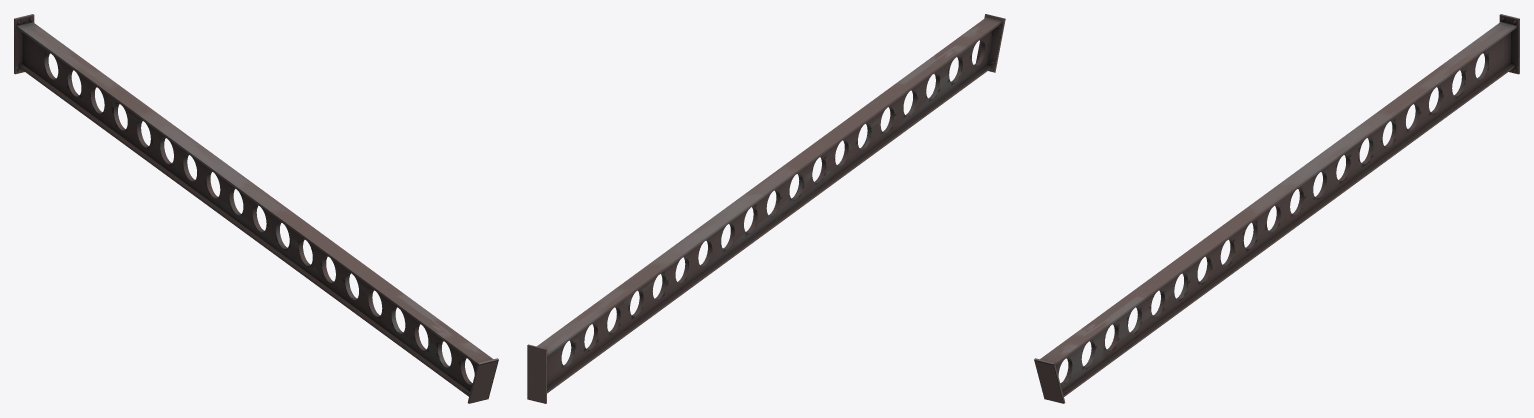
3 renders of one model, left to right at view 1: azimuth 30°, elevation 25°; view 2: azimuth 150°, elevation 25°; view 3: azimuth 330°, elevation 25°, orthographic.
Parts seen in each view (by area): view 1: body0_model0_lod0_mesh0; view 2: body0_model0_lod0_mesh0; view 3: body0_model0_lod0_mesh0.
Boxes of the visible parts, bbox=[...] form: body0_model0_lod0_mesh0: bbox=[14, 14, 498, 403]; body0_model0_lod0_mesh0: bbox=[527, 14, 1005, 403]; body0_model0_lod0_mesh0: bbox=[1034, 14, 1519, 403].
Bounding box in the file's own units: 19.76 × 52.41 × 805.
Materials: 1 (1 with a texture image).
